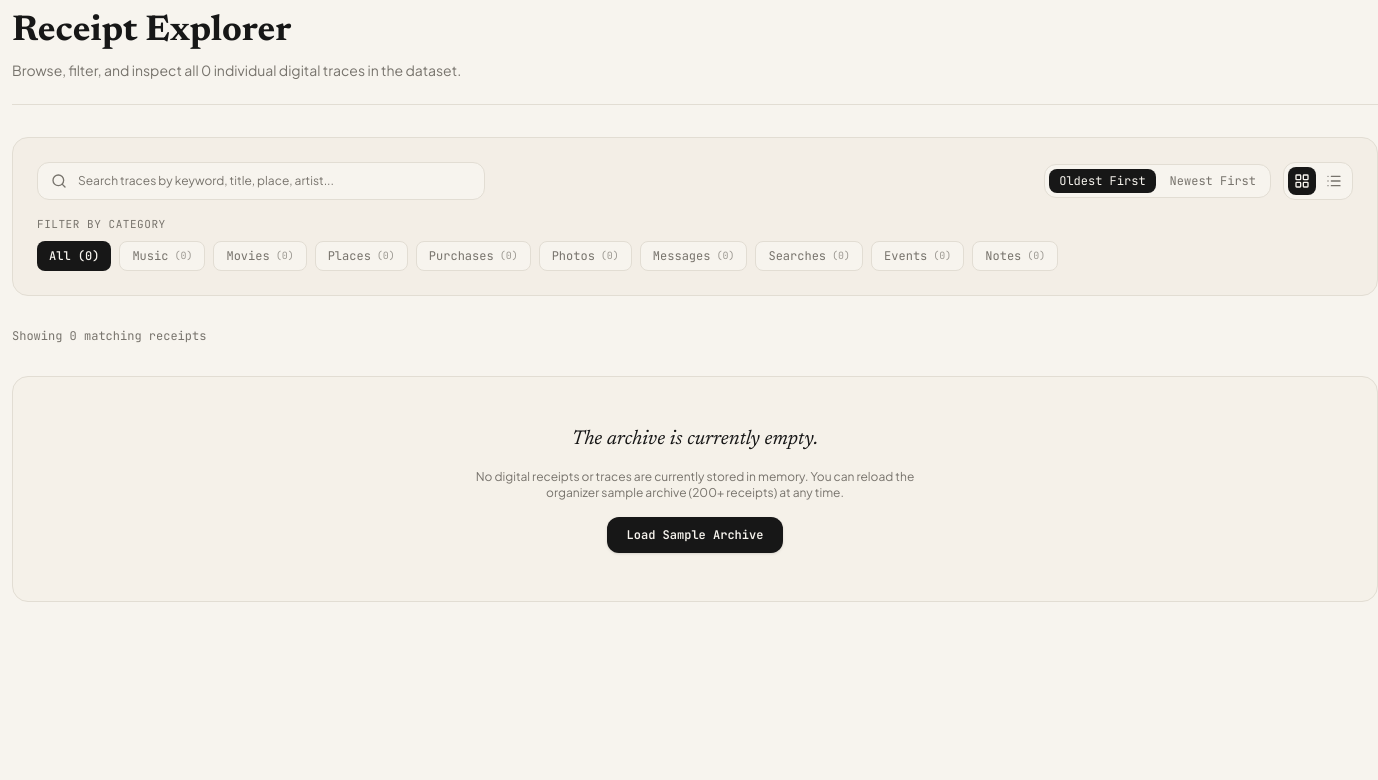
Test: Empty State & Archive Restoration › renders empty state and restores full sample archive when clicked
Expected: the text "The archive is currently empty." is shown, top-left (572, 428), bottom-right (818, 448)
Note: Click "Load Sample Archive"
Click the button "Load Sample Archive" at {"x": 695, "y": 534}, box top-left (607, 516), bottom-right (783, 552)
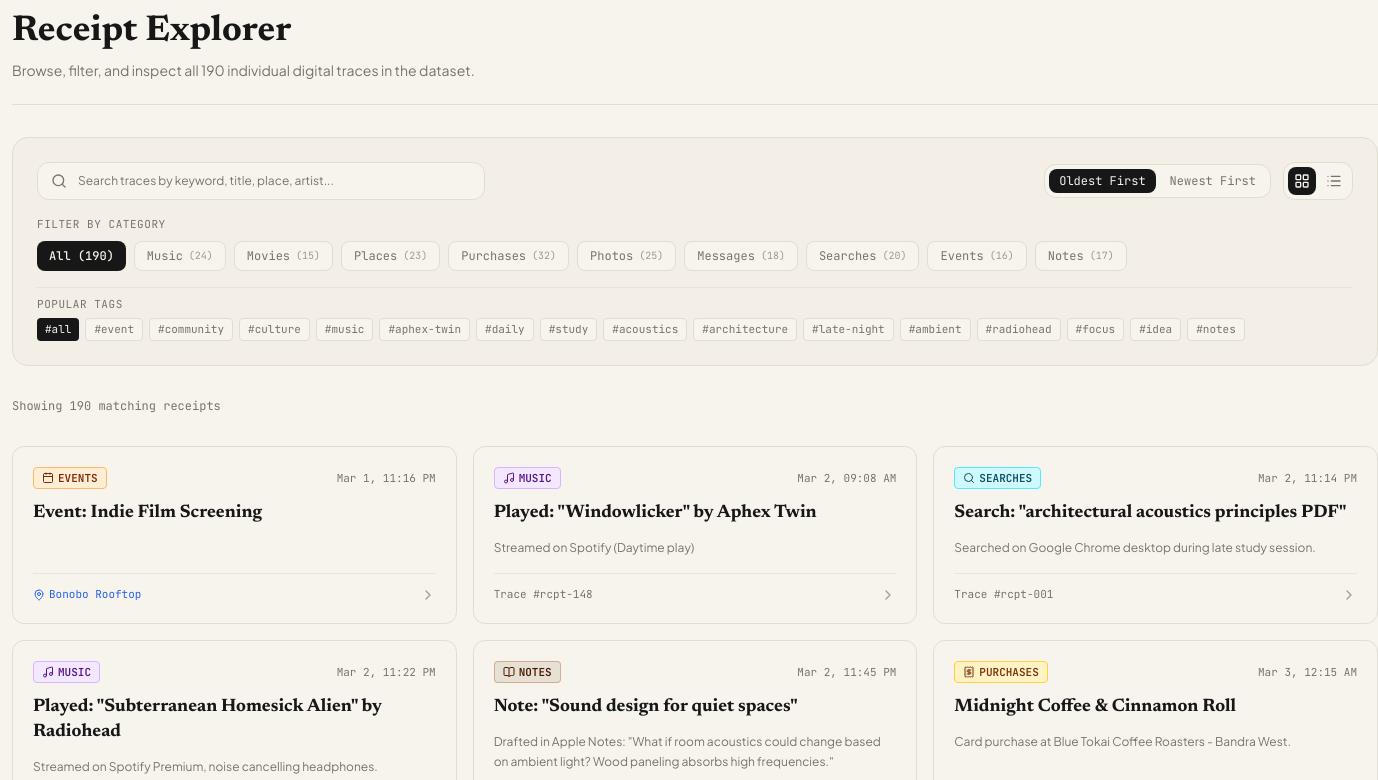
Expected: the text "Showing 190 matching receipts" is shown, top-left (12, 398), bottom-right (221, 414)
Now the text "The archive is currently empty." is gone
